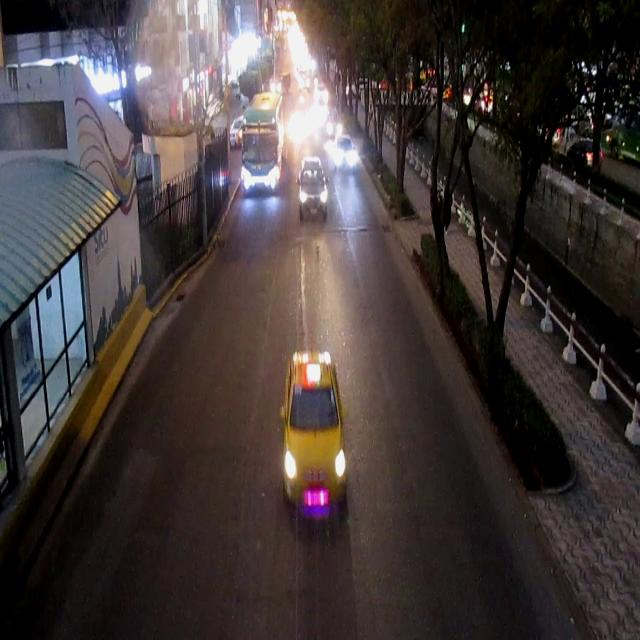BUS: (244, 94, 283, 194)
SED: (283, 354, 344, 514)
SUV: (300, 158, 327, 219)
